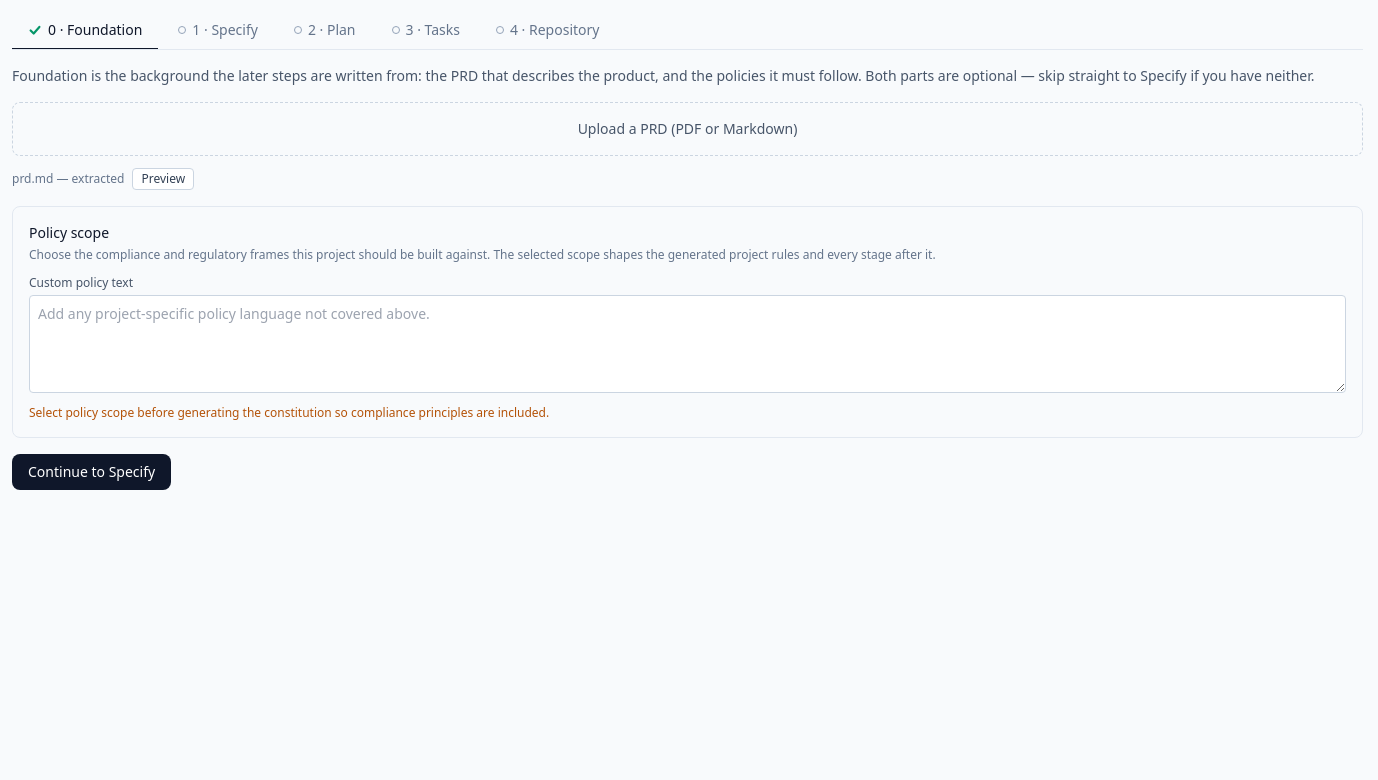
it: Planner › renders an uploaded markdown PRD as formatted text when previewed
Click the button "Preview".
click(163, 179)  # box [132,168,194,190]
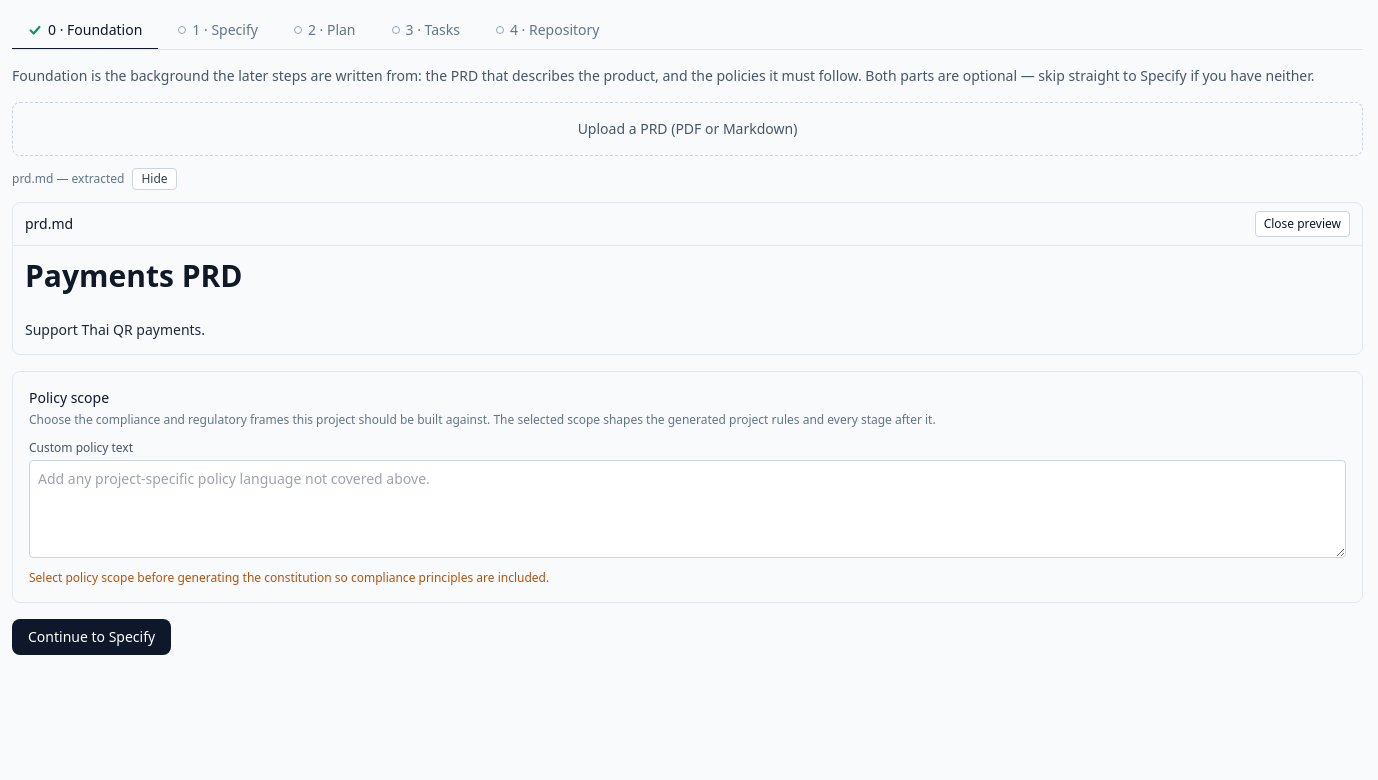
Result: the heading "Payments PRD" is shown at [25,255,242,296]
